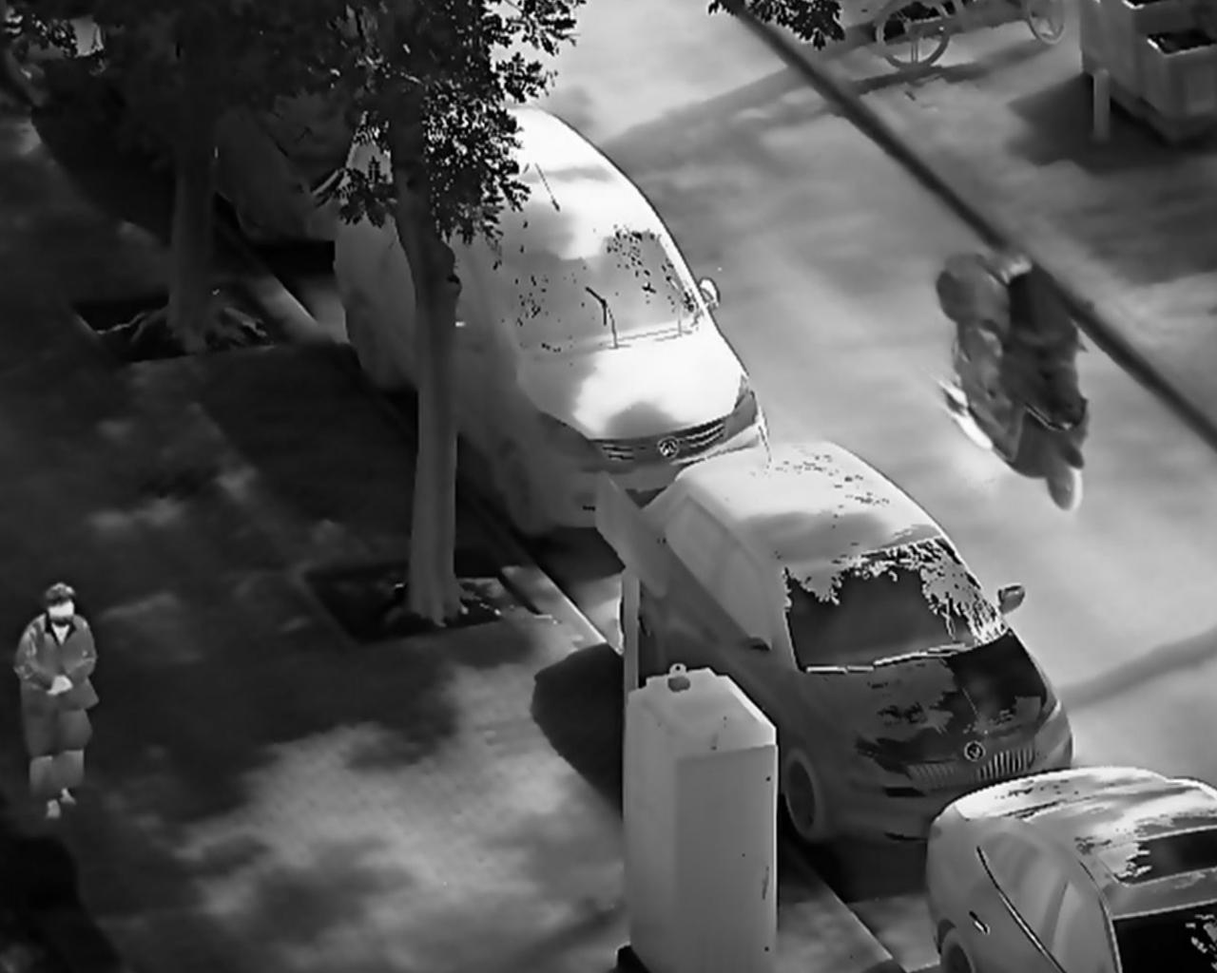person: (9, 578, 104, 824), (969, 241, 1050, 428)
